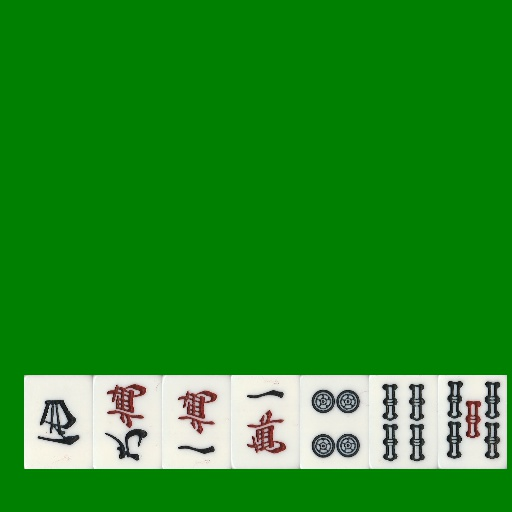1m: (162, 375, 231, 469), (231, 375, 300, 469)
4p: (300, 375, 369, 469)
4s: (369, 375, 438, 469)
5s: (438, 375, 507, 469)
9m: (93, 375, 162, 469)
west: (24, 375, 93, 469)
